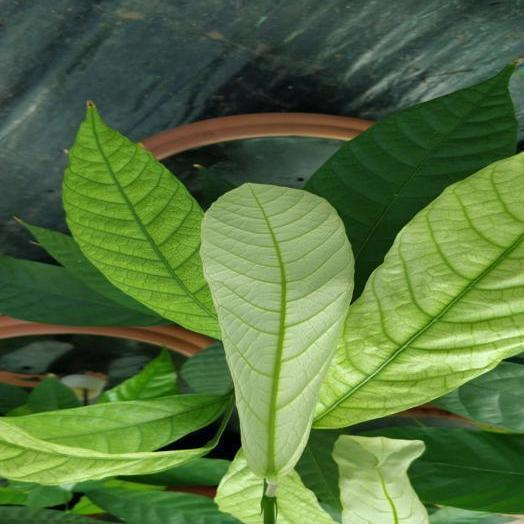Healthy Leaf: (306, 66, 516, 299), (365, 424, 523, 513), (23, 223, 152, 312), (0, 255, 163, 325), (433, 361, 523, 432), (88, 488, 240, 523), (98, 351, 176, 402), (25, 377, 80, 413)
Iron: (316, 154, 523, 426), (200, 184, 353, 523), (63, 102, 218, 337), (0, 419, 226, 485), (4, 395, 224, 453), (333, 435, 428, 523), (215, 449, 265, 523), (277, 471, 335, 523)
